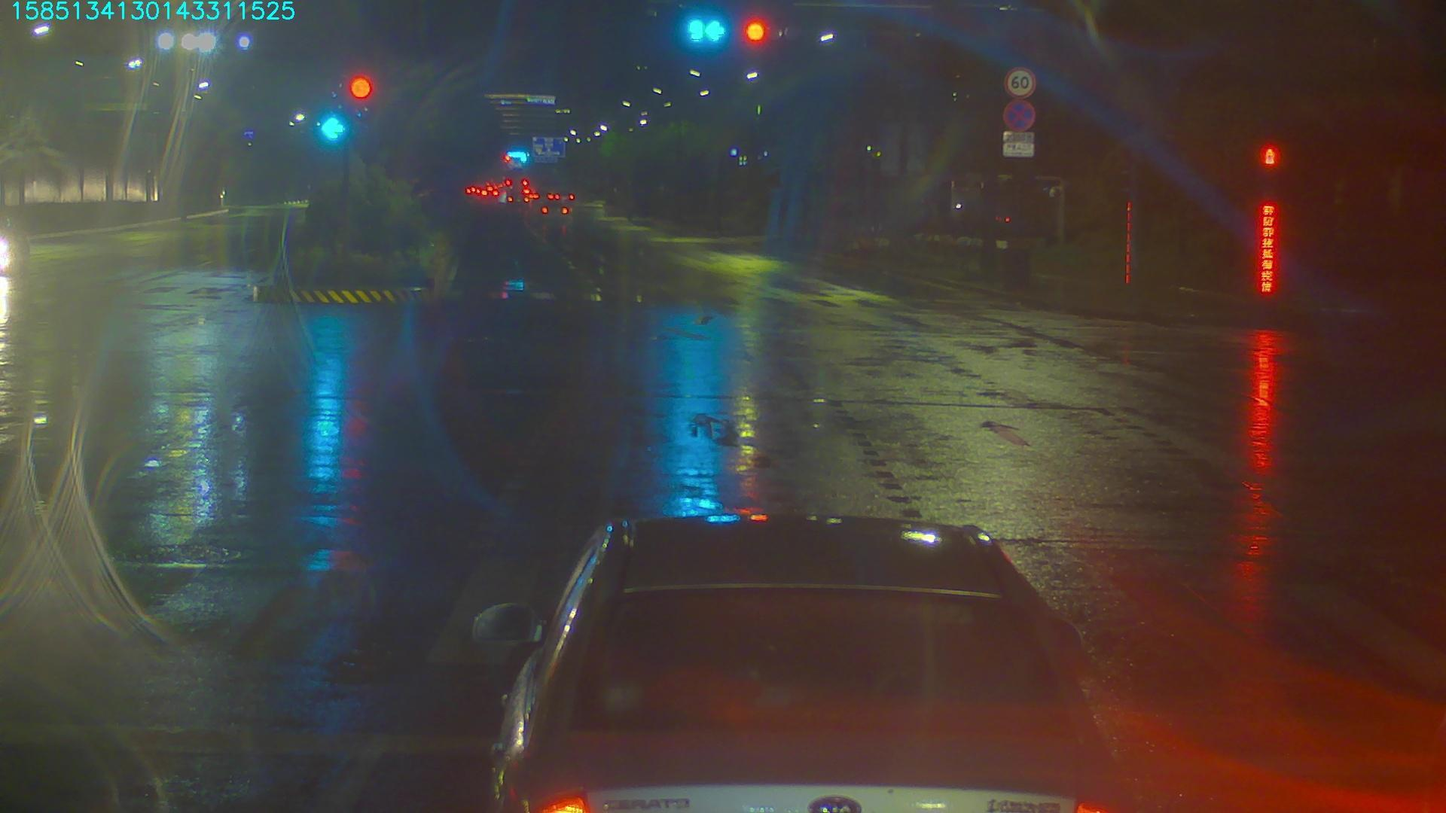green: (682, 14, 724, 45)
red: (740, 16, 767, 49)
